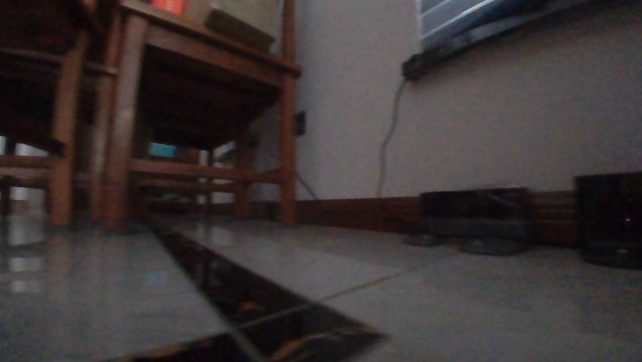charger: (400, 181, 533, 257)
dining_table1: (0, 0, 303, 232)
wire: (290, 169, 580, 254), (374, 79, 417, 230)
